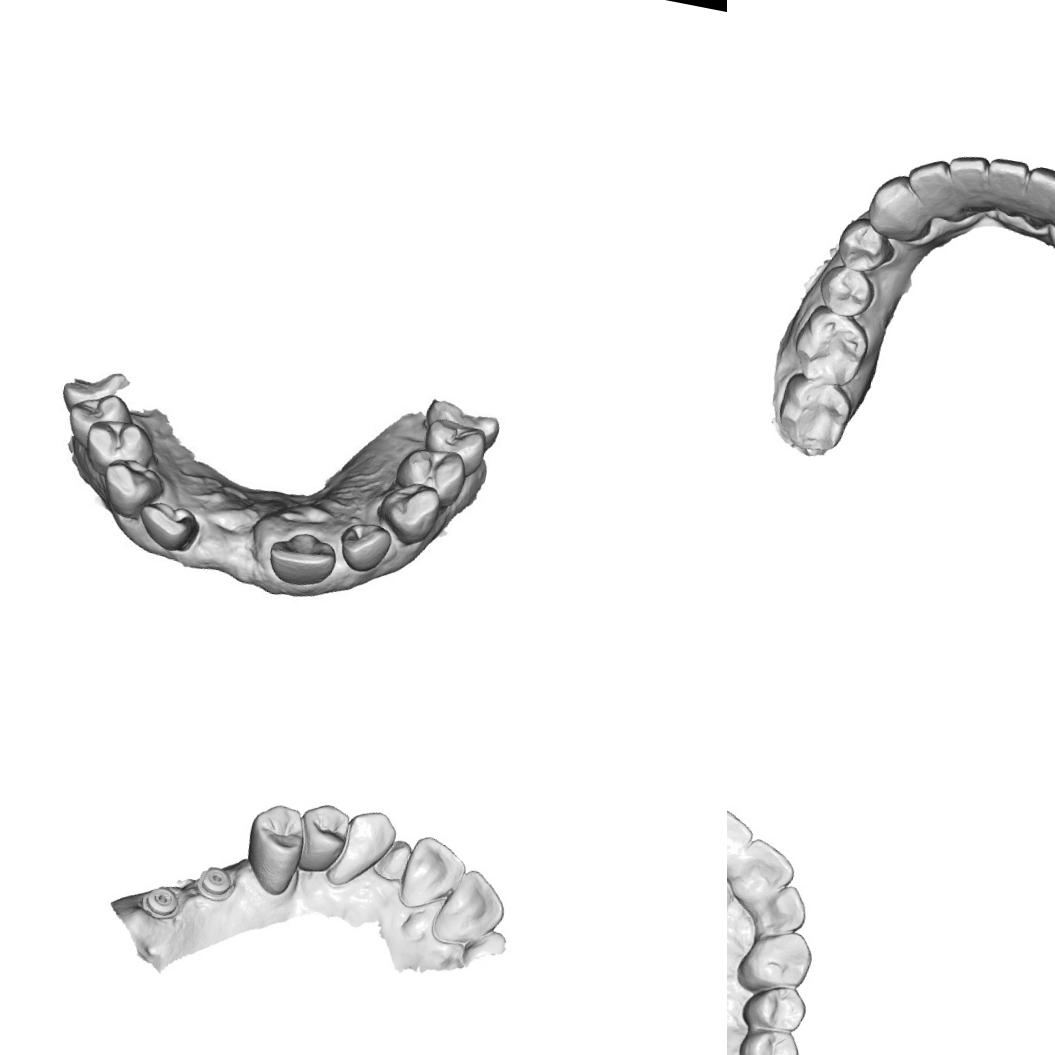canine: (323, 802, 401, 895), (732, 922, 816, 1002), (858, 169, 936, 245), (370, 474, 445, 549), (96, 454, 166, 524)
implant: (194, 862, 236, 901)
implant_minus: (138, 880, 183, 924)
incisor: (426, 862, 512, 954), (394, 830, 471, 919), (260, 512, 342, 592), (130, 496, 198, 554), (900, 153, 960, 216), (738, 834, 800, 891), (936, 150, 990, 212), (976, 154, 1034, 210), (342, 522, 394, 576), (368, 829, 416, 887), (762, 880, 812, 934), (1020, 161, 1055, 222), (727, 800, 757, 861)
molar: (787, 302, 876, 388), (770, 373, 856, 461)
premolar: (236, 796, 312, 900), (76, 411, 158, 487), (290, 796, 354, 880), (830, 213, 902, 281), (416, 412, 490, 478), (396, 442, 470, 504), (60, 386, 130, 446), (739, 978, 810, 1035), (813, 260, 878, 321), (734, 1022, 802, 1055)
